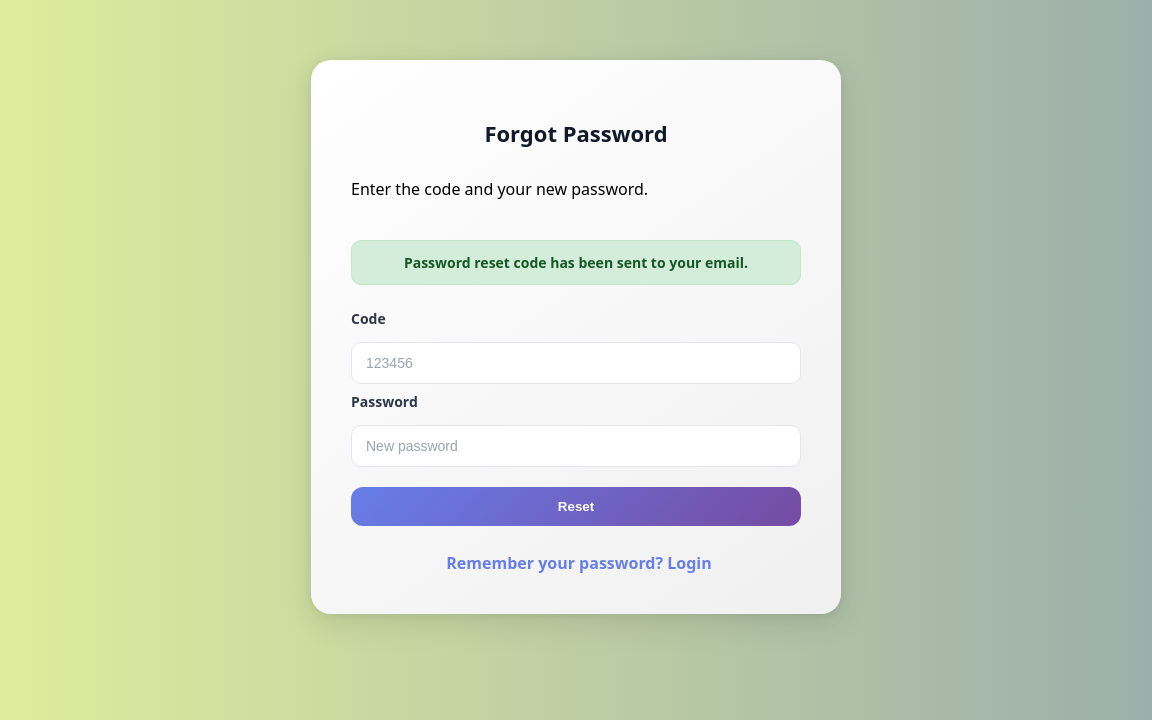
Test: ResetPassword component › verifies code using sessionStorage (dev path) and completes reset
Type "1234" into the field with placeholder "123456".
click(576, 363); type("1234")  # box [351, 342, 801, 384]
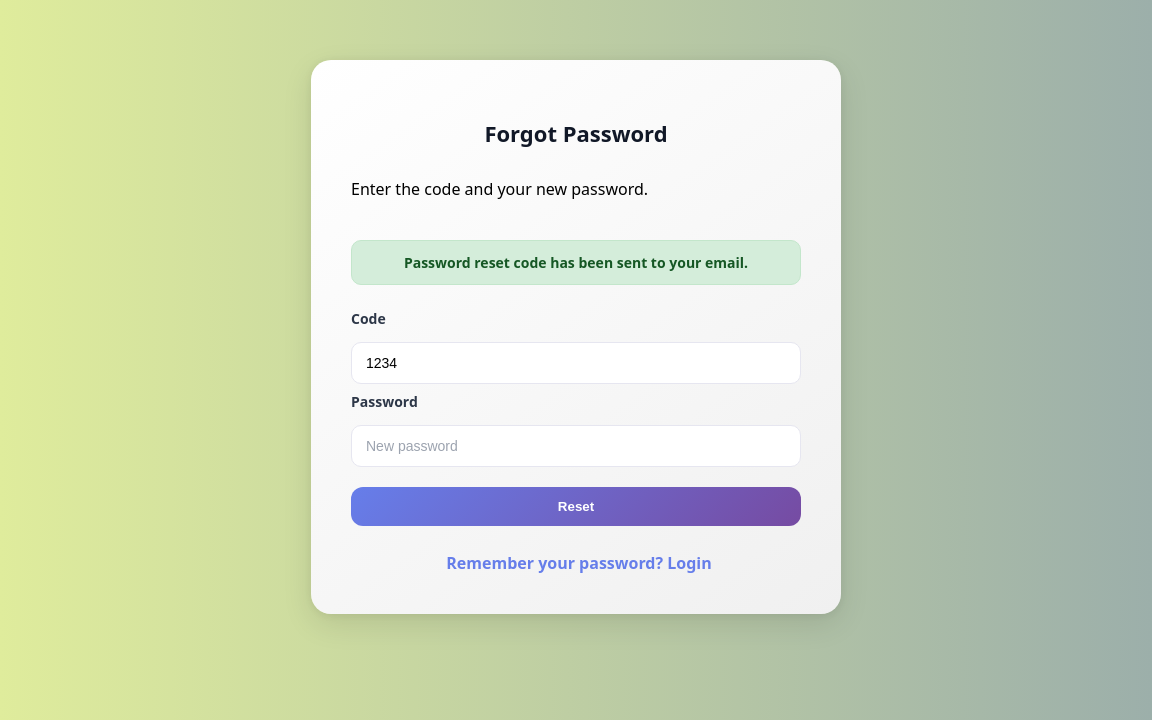
Type "MyPass123!" into the password field with placeholder "New password".
click(576, 446); type("MyPass123!")  # box [351, 425, 801, 467]
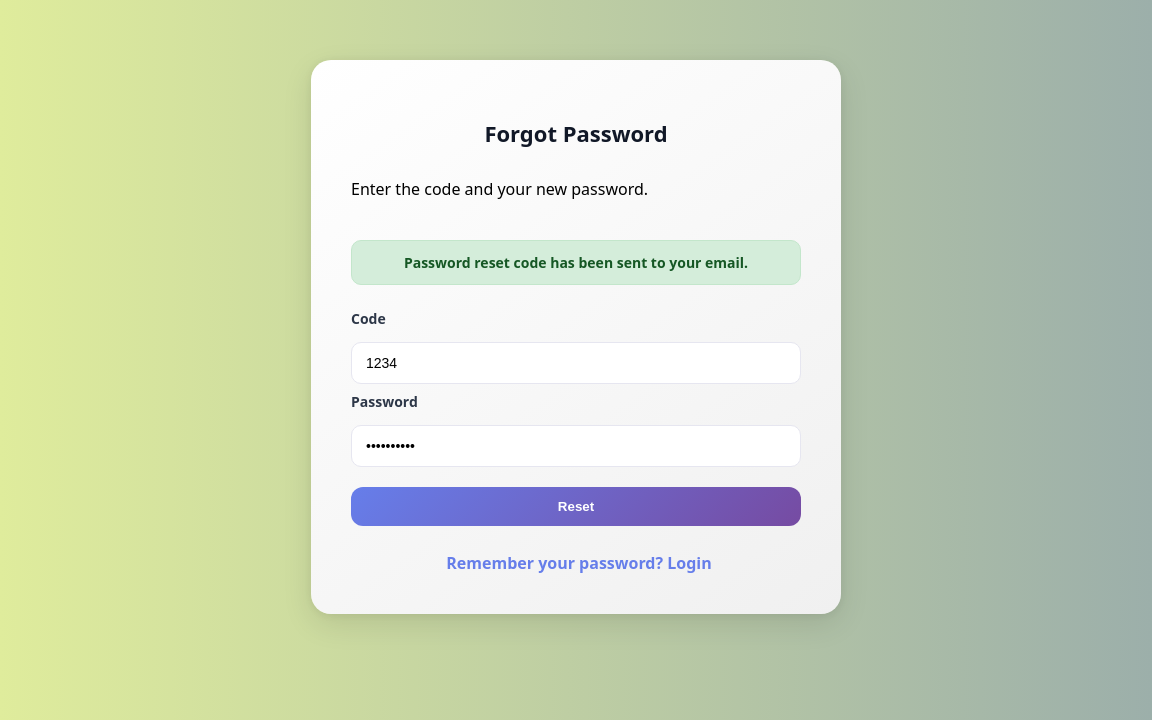
Click the button "Reset".
click(576, 507)  # box [351, 487, 801, 526]
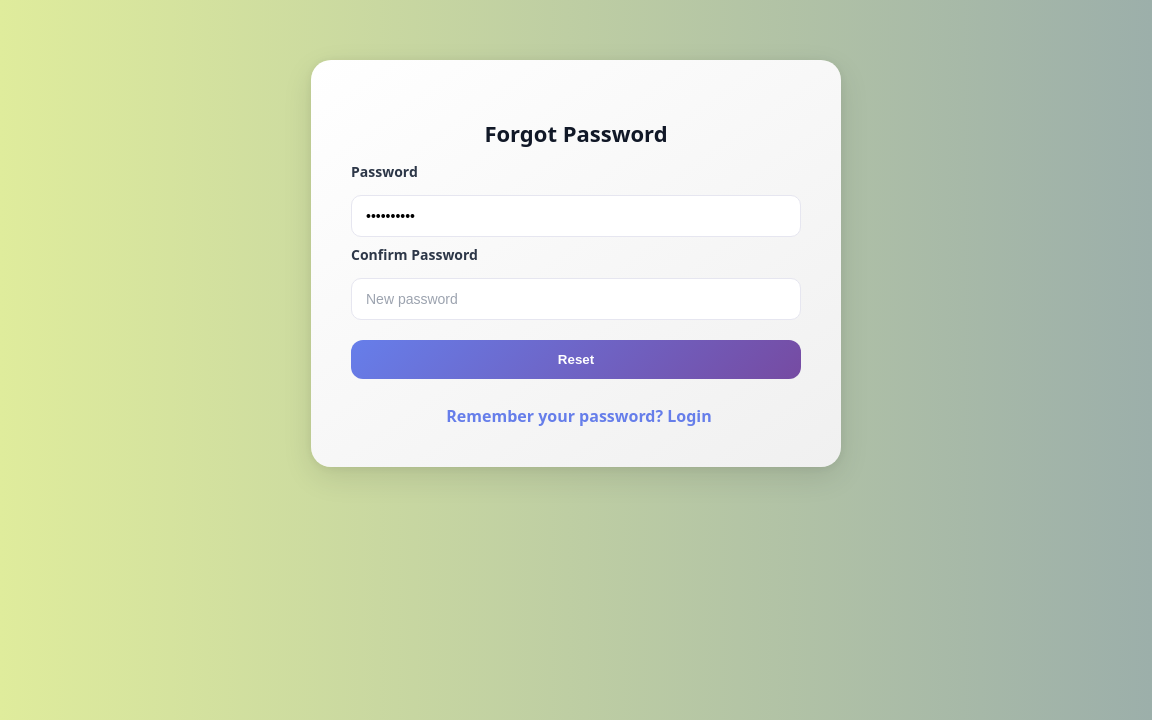
Now the password field labelled "Confirm Password" is shown
Type "MyPass123!" into the password field labelled "Confirm Password".
click(576, 299); type("MyPass123!")  # box [351, 278, 801, 320]
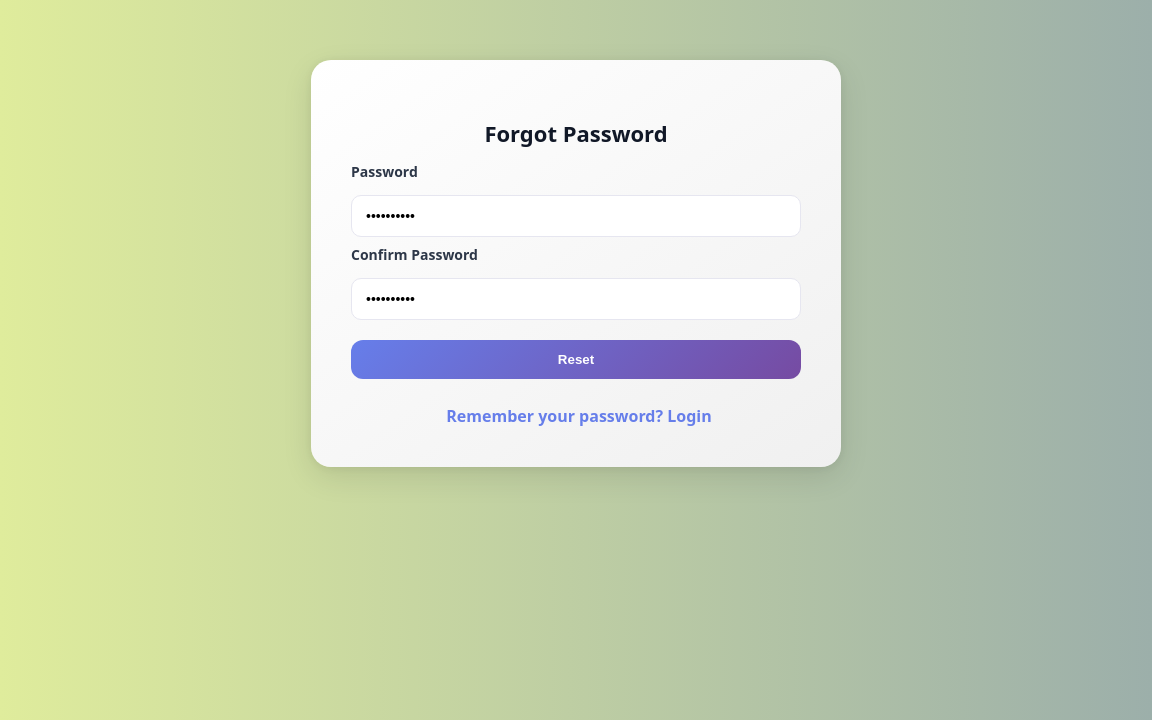
Click the button "Reset".
click(576, 360)  # box [351, 340, 801, 379]
Wait 1500 ms
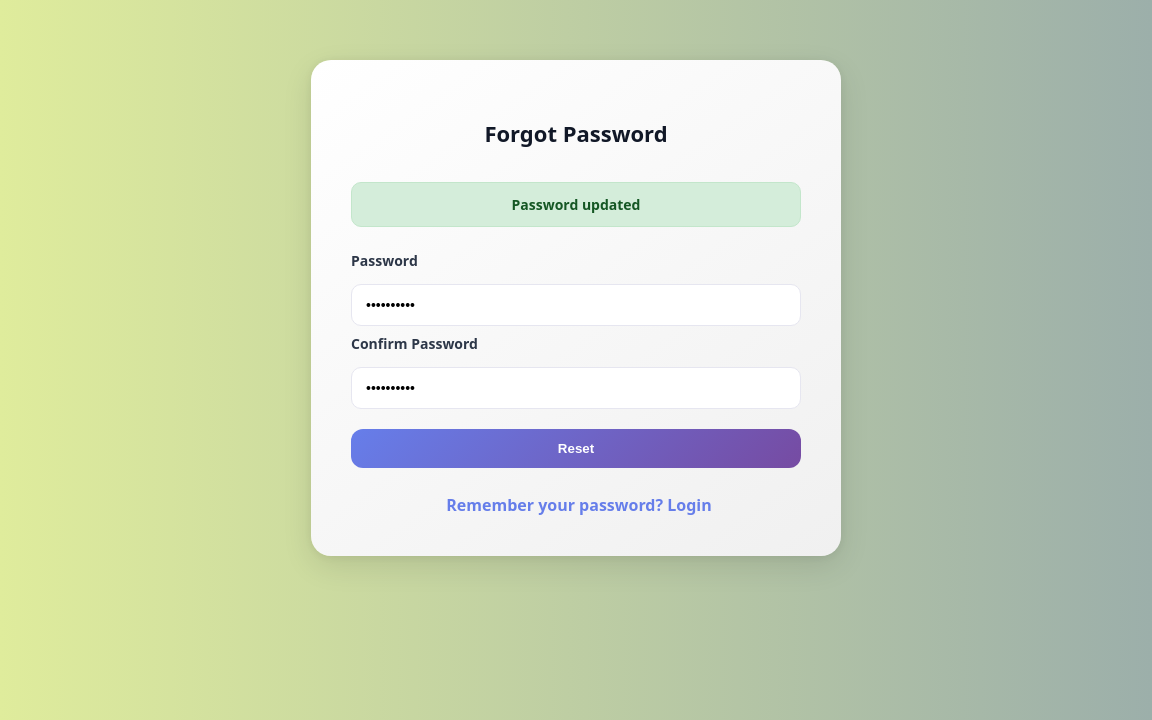
Now the text "Password updated" is shown, box [351, 182, 801, 227]
